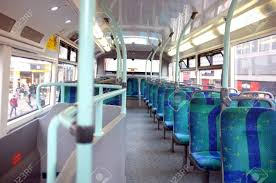seat: (187, 91, 236, 174)
